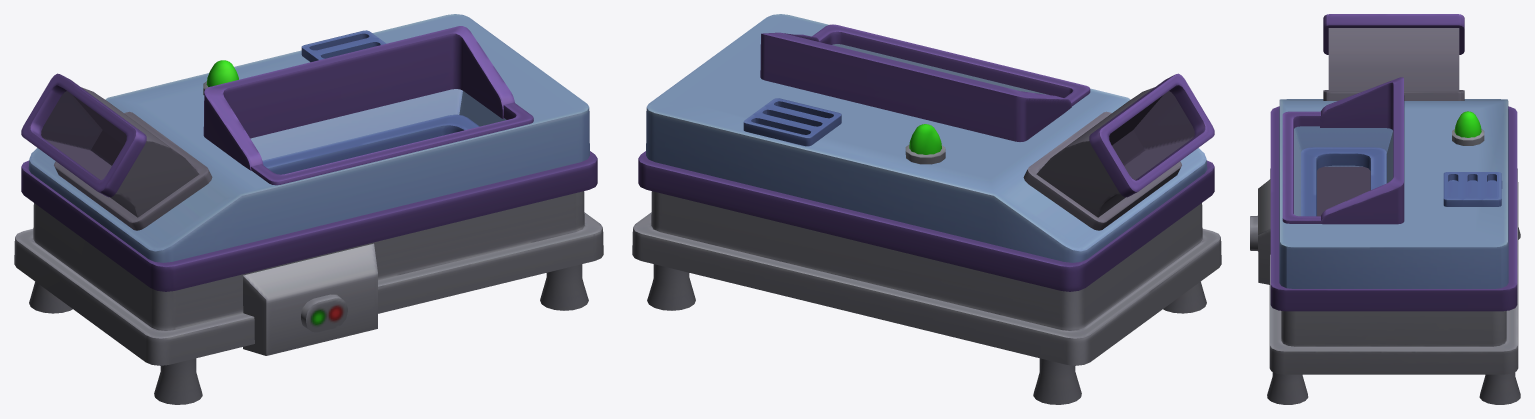
File: packaging_machine_01.fbx
3 views of the same model, side by side, from view 1: azimuth 30°, elevation 25°; view 2: azimuth 150°, elevation 25°; view 3: azimuth 270°, elevation 25° (orthographic). The views are drawn at different scales.
Parts seen in each view (by area): view 1: Cube.045; view 2: Cube.045; view 3: Cube.045.
Part boxes in pixels (x1,y1,x2,y2): Cube.045: (14, 14, 603, 404); Cube.045: (632, 14, 1221, 404); Cube.045: (1250, 14, 1520, 404).
Size of the model in its own units: 386 by 195 by 223.
